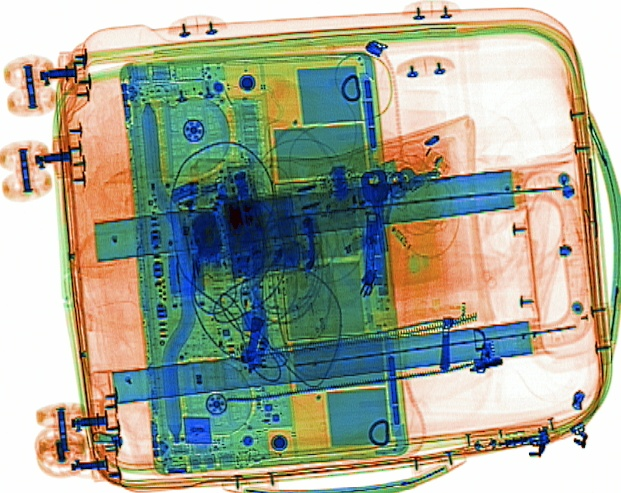powerbank: (217, 186, 332, 283)
